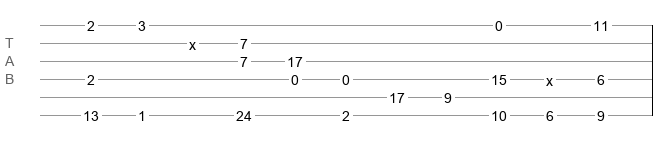0: (291, 72, 299, 82), (342, 72, 350, 82), (495, 18, 503, 28)
1: (138, 108, 146, 118)
10: (491, 108, 507, 118)
11: (593, 18, 609, 28)
13: (83, 108, 99, 118)
15: (491, 72, 507, 82)
17: (287, 54, 303, 64), (389, 90, 405, 100)
2: (87, 72, 95, 82), (87, 18, 95, 28), (342, 108, 350, 118)
24: (236, 108, 252, 118)
3: (138, 18, 146, 28)
6: (546, 108, 554, 118), (597, 72, 605, 82)
7: (240, 54, 248, 64), (240, 36, 248, 46)
9: (444, 90, 452, 100), (597, 108, 605, 118)
x: (189, 37, 196, 45), (546, 73, 553, 81)
